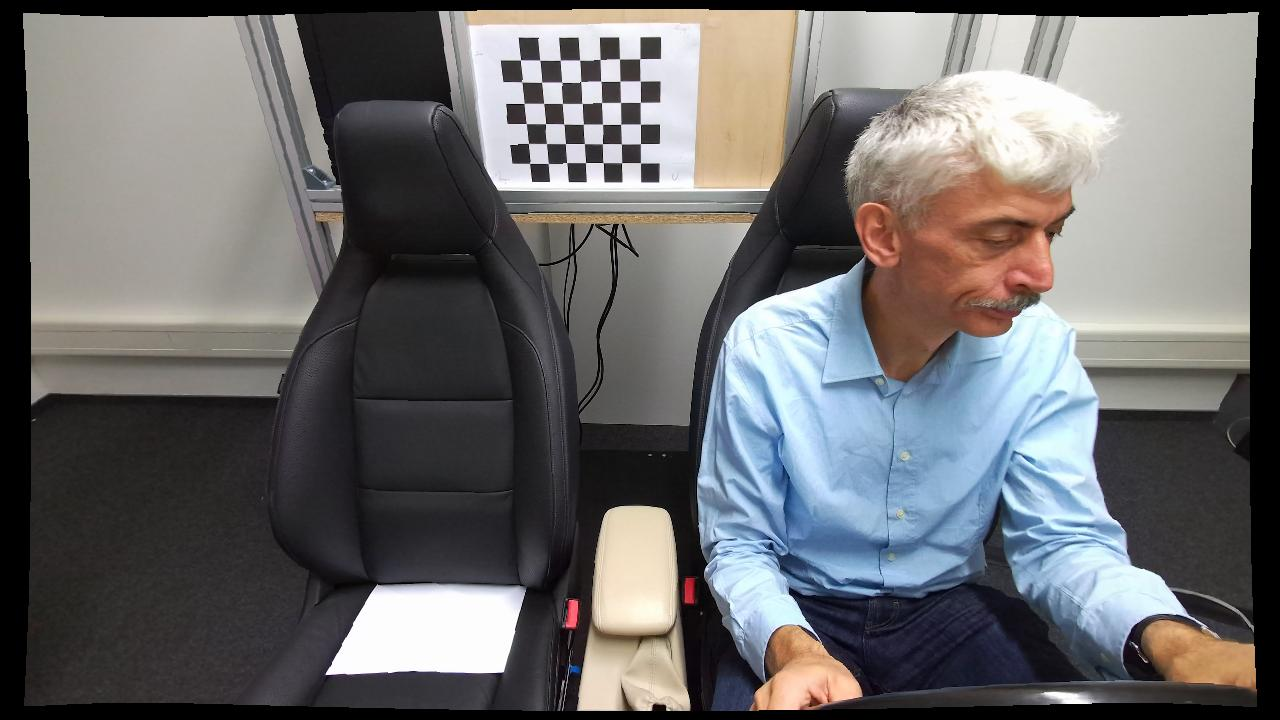Distracted: (701, 73, 1256, 720)
